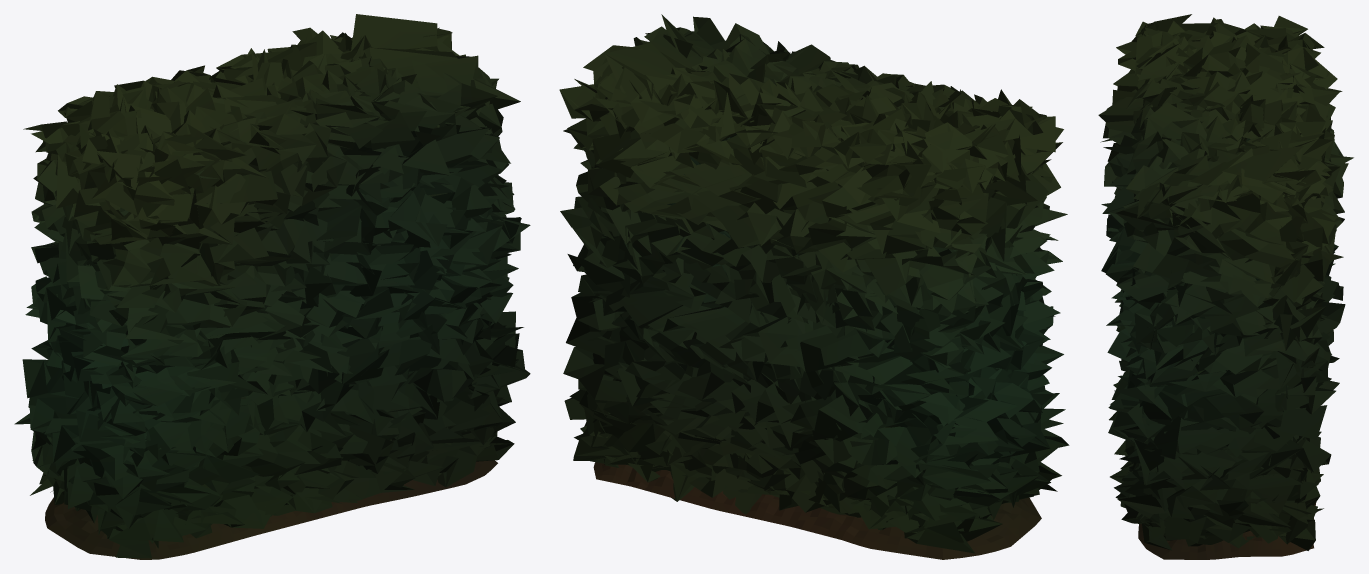
File: PC_HedgeFenceTall_2m.FBX
3 renders of one model, left to right at view 1: azimuth 30°, elevation 25°; view 2: azimuth 150°, elevation 25°; view 3: azimuth 270°, elevation 25°, orthographic. The views are drawn at different scales.
Visible parts, largest first — view 1: HedgeFenceTall_2m; view 2: HedgeFenceTall_2m; view 3: HedgeFenceTall_2m.
Boxes of the visible parts, <box> form: HedgeFenceTall_2m: <box>14,14,530,559</box>; HedgeFenceTall_2m: <box>559,14,1069,559</box>; HedgeFenceTall_2m: <box>1098,14,1353,559</box>.
Bounding box in the file's own units: 2.48 × 2.12 × 1.28.
